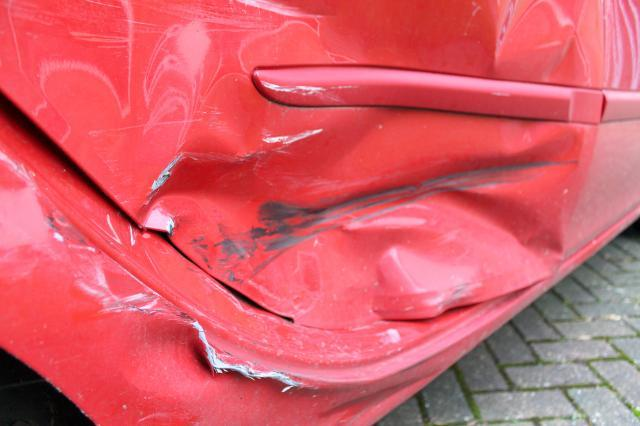dent: (136, 0, 590, 332), (122, 318, 346, 426)
